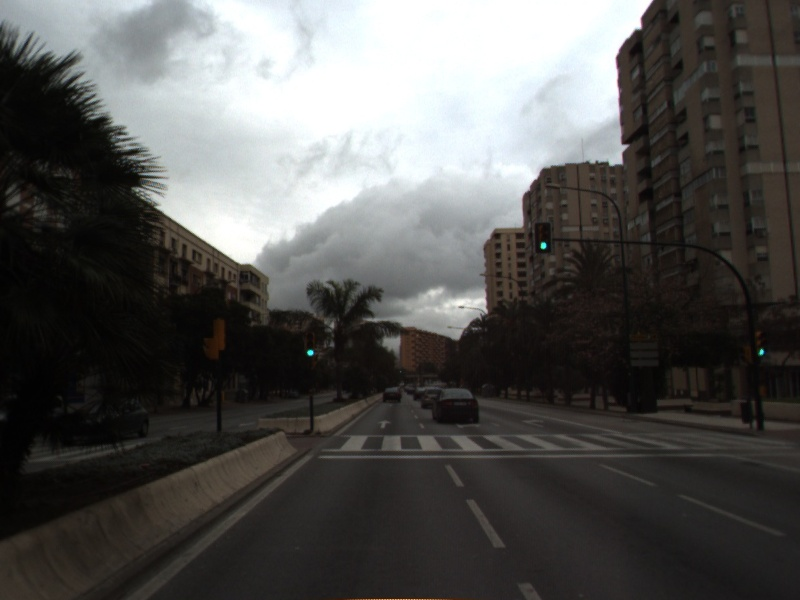RIGHT: (520, 417, 547, 430)
STRAIGHT: (375, 417, 394, 431)
